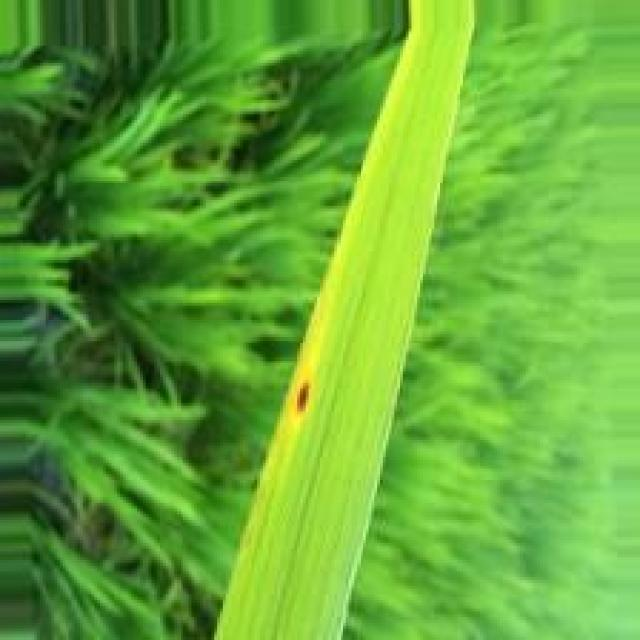Brown_Spot: (289, 380, 312, 418)
